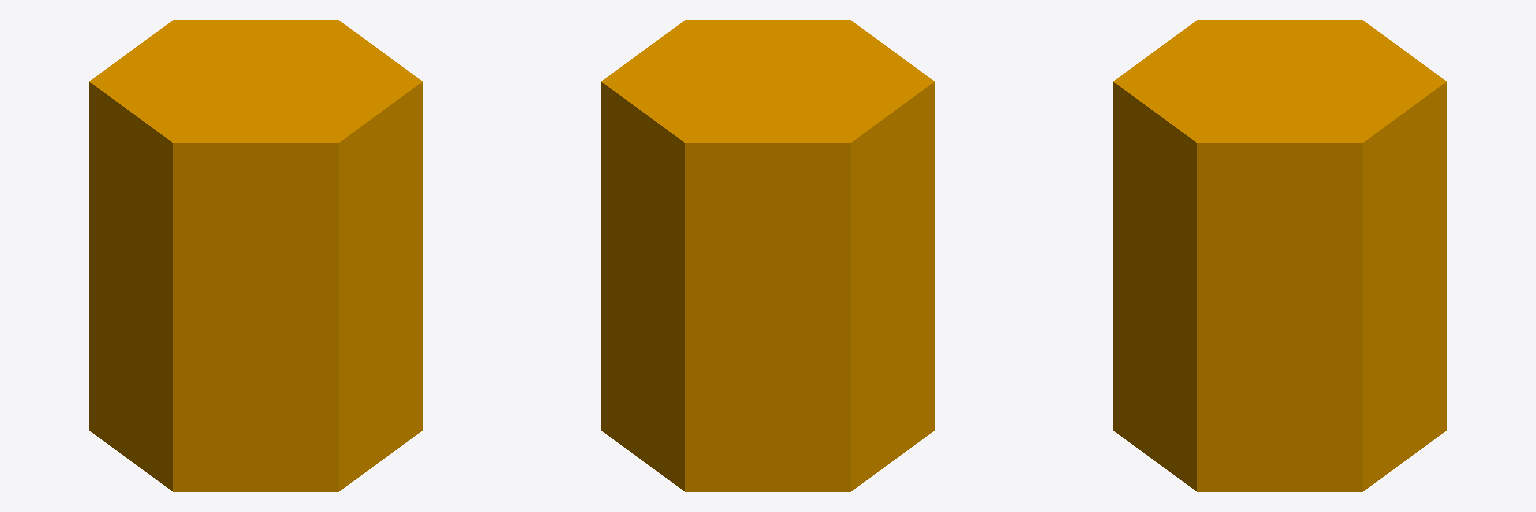
URDF robot description (6roof.urdf):
<?xml version="1.0" ?>
<robot name="6roof.urdf">
  <link name="baseLink">
    <contact>
    	<friction_anchor/>
    	   <lateral_friction value="1.0"/>
    </contact>
    <inertial>
      <origin rpy="0 0 0" xyz="0 0 0"/>
       <mass value=".1"/>
       <inertia ixx="1" ixy="0" ixz="0" iyy="1" iyz="0" izz="1"/>
    </inertial>
    <visual>
      <origin rpy="0 0 1.5707" xyz="0 0 0"/>
      <geometry>
				<mesh filename="hexagonal_prism.obj" scale="0.52 0.52 1.2"/>
      </geometry>
    </visual>
    <collision>
      <origin rpy="0 0 1.5707" xyz="0 0 0"/>
      <geometry>
        <mesh filename="hexagonal_prism.obj" scale="0.52 0.52 1.2"/>
      </geometry>
    </collision>
  </link>
</robot>

--- Render facts (derived) ---
The picture shows the robot from 3 angles, left to right: view 1: azimuth 30°, elevation 25°; view 2: azimuth 150°, elevation 25°; view 3: azimuth 270°, elevation 25°; orthographic projection.
Robot: 6roof.urdf — 1 links, 0 joints (none); root link baseLink; default pose: all joints at 0.
Visible links, largest first — view 1: baseLink; view 2: baseLink; view 3: baseLink.
Link boxes in pixels (x1=…): baseLink: x1=89, y1=20, x2=422, y2=491; baseLink: x1=601, y1=20, x2=934, y2=491; baseLink: x1=1113, y1=20, x2=1446, y2=491.
Size in the robot's own frame: 0.045 by 0.052 by 0.06 metres.
1 mesh visuals loaded from 1 distinct referenced files (1 OBJ).